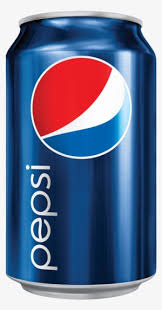pepsi: (1, 11, 157, 299)
